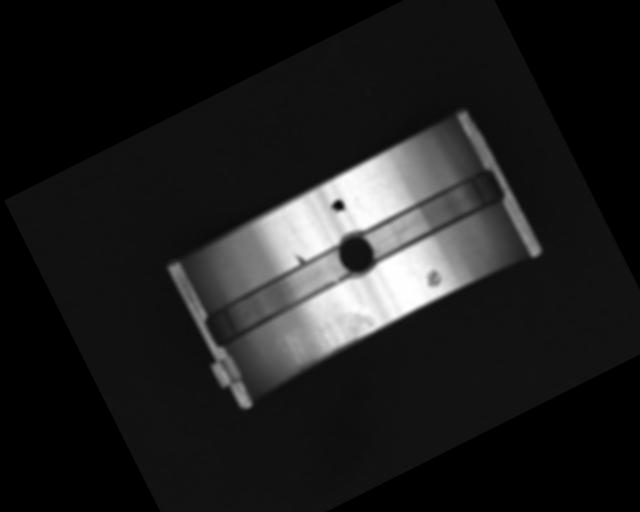blot: (327, 196, 348, 217)
bruise: (420, 264, 446, 291), (293, 250, 308, 265)
gap: (202, 245, 356, 349), (355, 164, 509, 266)
hole: (329, 227, 382, 283)
nick: (282, 213, 303, 247)
scratch: (277, 299, 380, 374)
